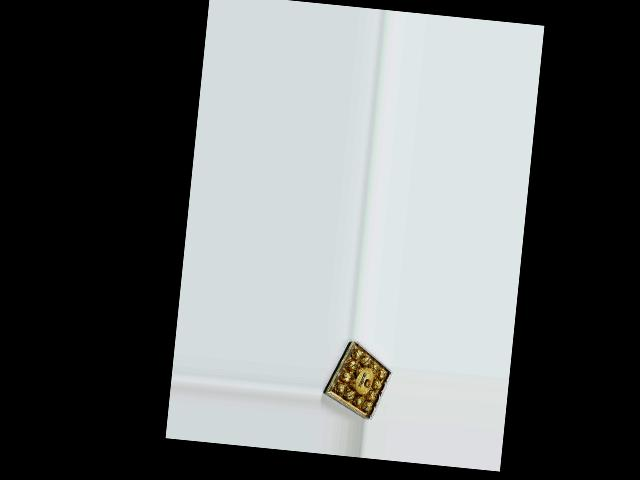chocolate: (319, 337, 395, 422)
